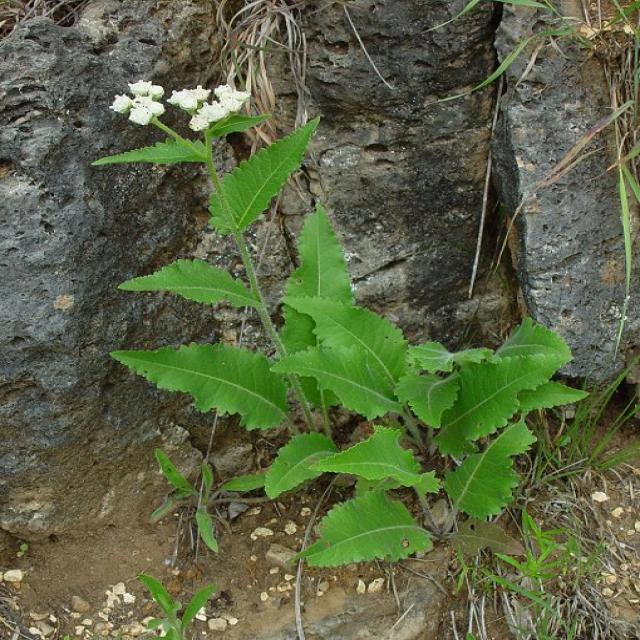Poisonous-Parthenium: (102, 71, 419, 548)
